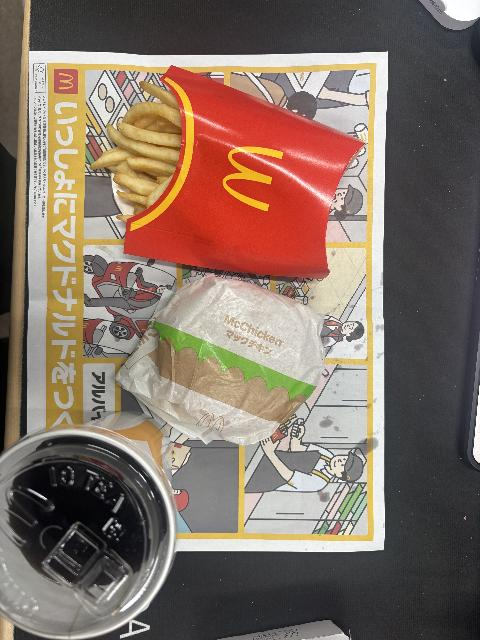burger: (116, 274, 326, 446)
drink: (0, 425, 176, 640)
fries: (90, 63, 366, 279)
